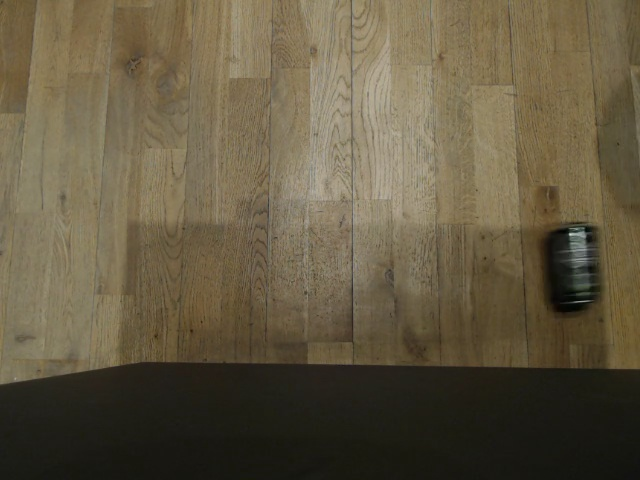beer: (542, 222, 605, 309)
